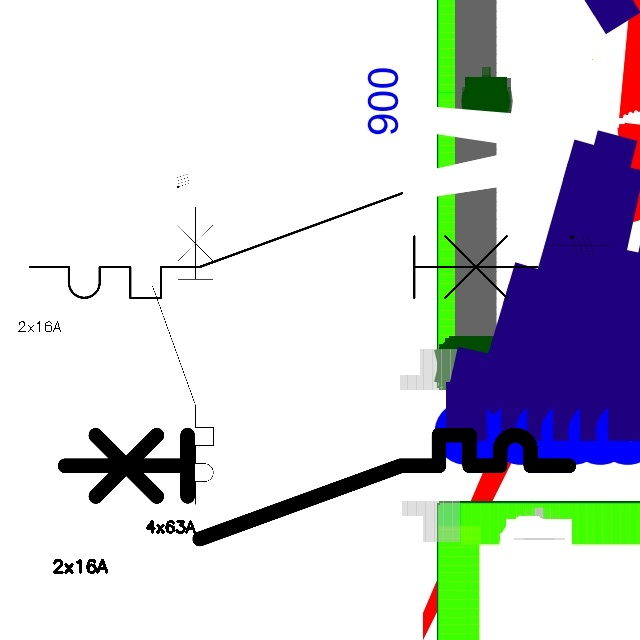interruptor_termomagnetico: (17, 180, 551, 311), (52, 422, 582, 551), (145, 199, 221, 511)
